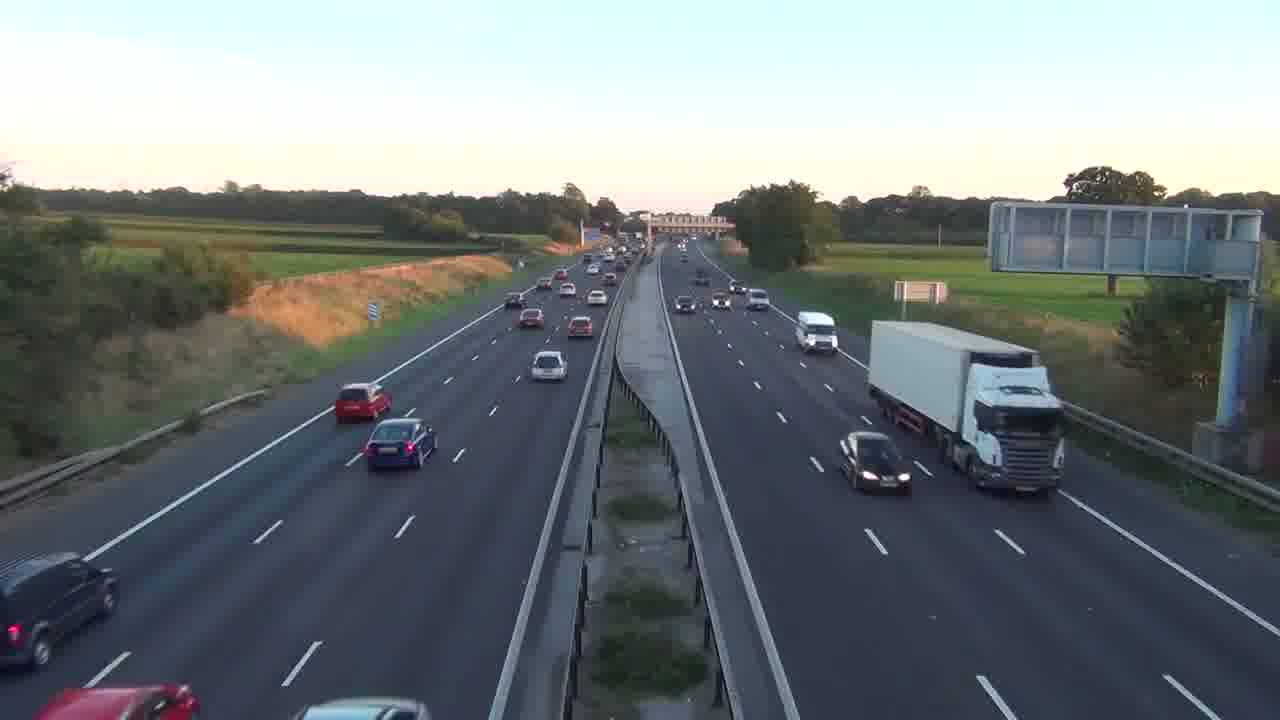car: (32, 682, 203, 720), (838, 429, 913, 496), (364, 418, 437, 471), (334, 381, 393, 424), (530, 349, 567, 382), (567, 315, 593, 339), (517, 307, 544, 330), (587, 288, 607, 305)
truck: (867, 319, 1066, 495), (0, 550, 121, 672), (795, 310, 838, 353)
